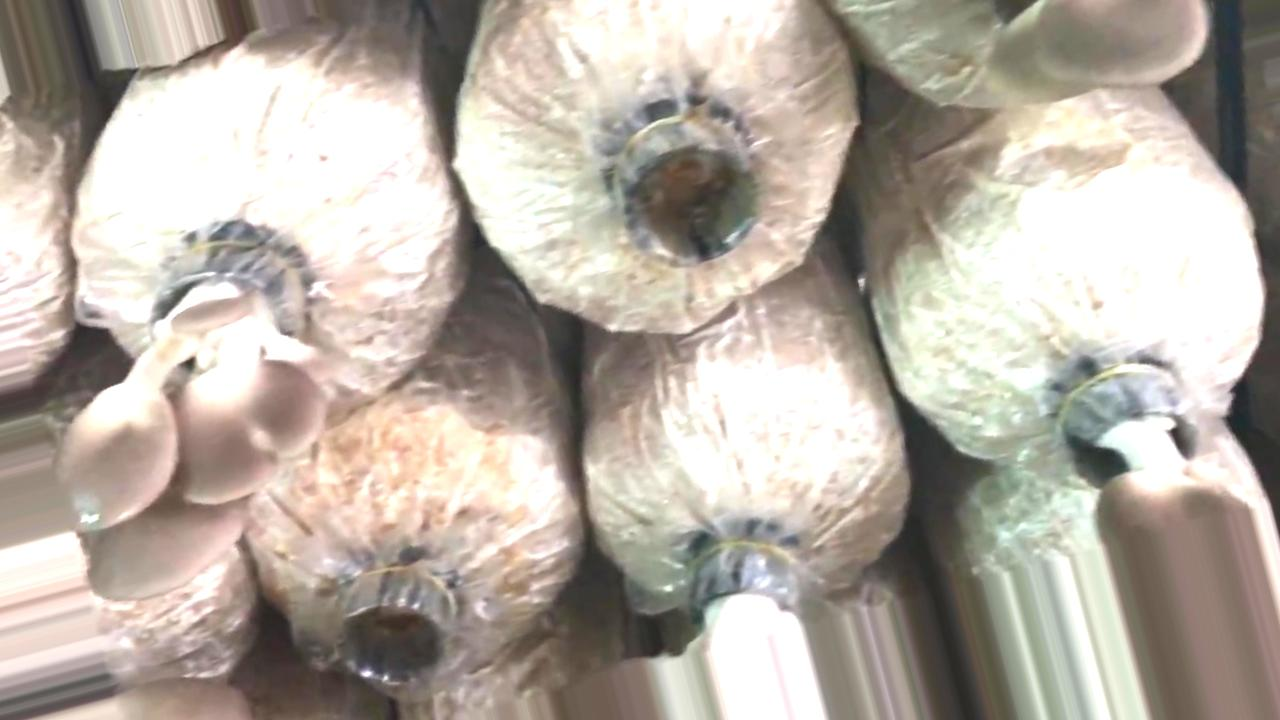nam: (52, 237, 328, 610), (1060, 356, 1280, 720)
